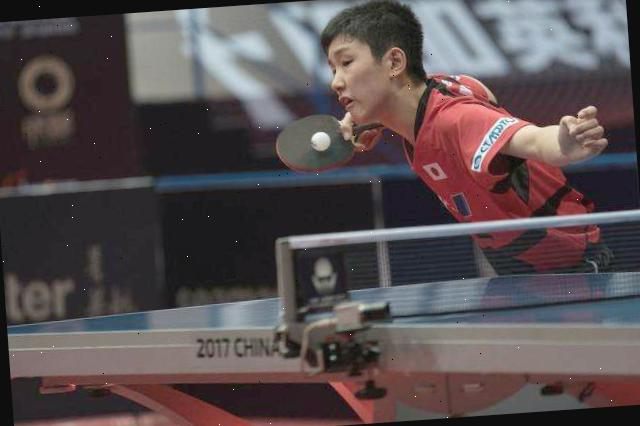ball: (307, 127, 332, 152)
